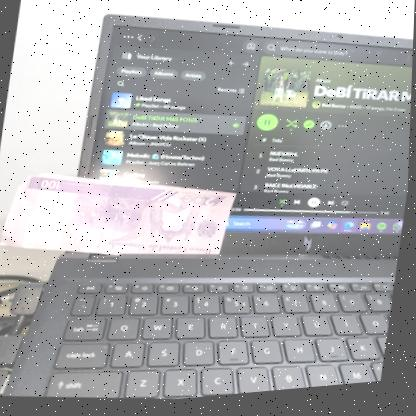one_hundred-back-vef: (0, 156, 241, 275)
